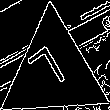L_SE: (29, 41, 77, 101)
